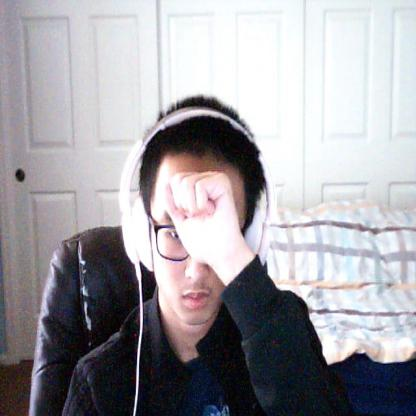fist: (159, 169, 241, 265)
